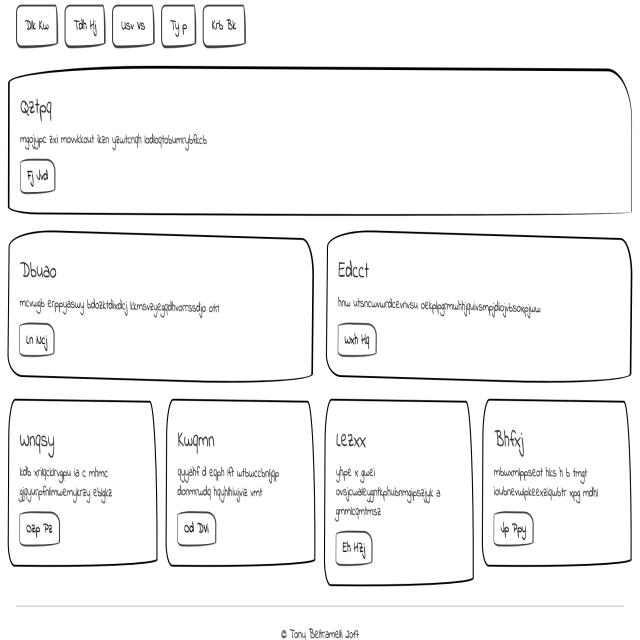Card: (4, 65, 638, 223), (8, 226, 317, 394), (326, 228, 638, 390), (324, 398, 475, 590), (8, 401, 160, 574), (166, 401, 317, 575), (484, 397, 634, 572)
Footer: (0, 593, 640, 640)
Heading 6: (15, 424, 62, 463), (175, 428, 224, 465), (19, 253, 62, 291), (494, 424, 532, 462), (334, 255, 374, 288), (18, 92, 56, 126), (334, 424, 372, 458)
Navigation Bar: (12, 0, 254, 54)
Paragraph: (334, 288, 544, 324), (331, 462, 444, 528), (16, 126, 210, 156), (175, 462, 284, 512), (19, 292, 228, 318), (493, 464, 604, 510), (15, 461, 123, 508), (16, 159, 62, 196)
